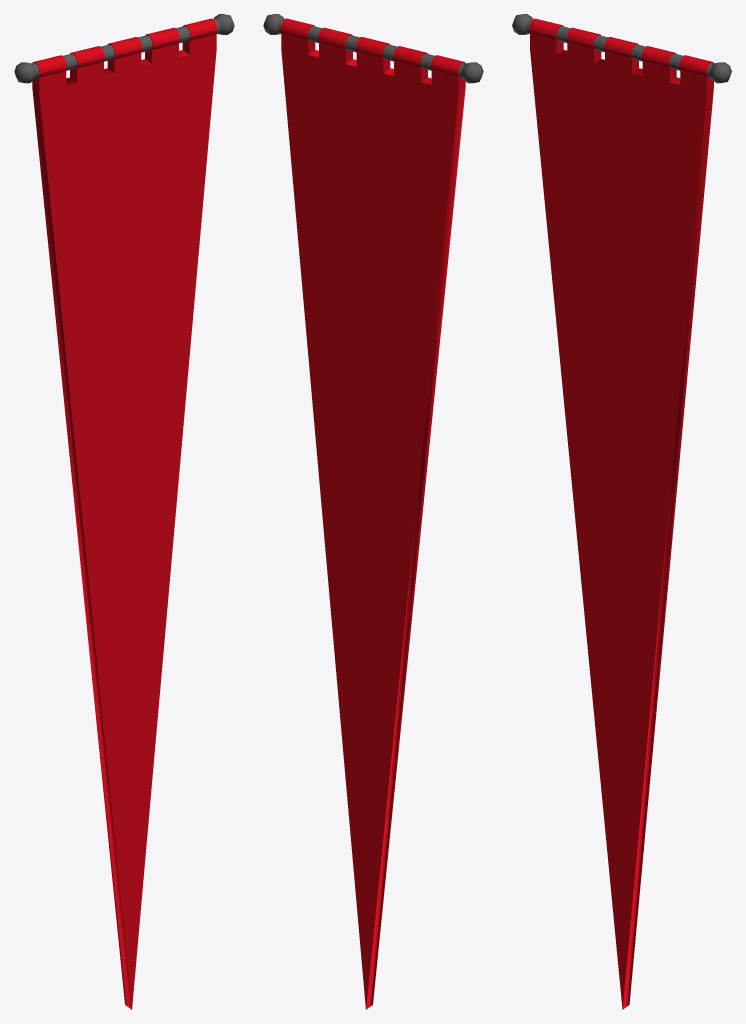
File: Banners.glb
The picture shows the model from 3 angles, left to right: view 1: azimuth 30°, elevation 25°; view 2: azimuth 150°, elevation 25°; view 3: azimuth 330°, elevation 25°; orthographic projection.
Visible parts, largest first — view 1: Pennant, Mount; view 2: Pennant, Mount (×2); view 3: Pennant, Mount.
Boxes of the visible parts, x1,y1,x2,y2 form: Pennant: (32,48,216,1009); Mount: (32,18,220,78); Pennant: (281,48,465,1009); Mount (×2): (277,18,465,78); Pennant: (530,48,713,1009); Mount: (526,18,713,78).
Bounding box in the file's own units: 1.21 × 5.16 × 0.1125.
